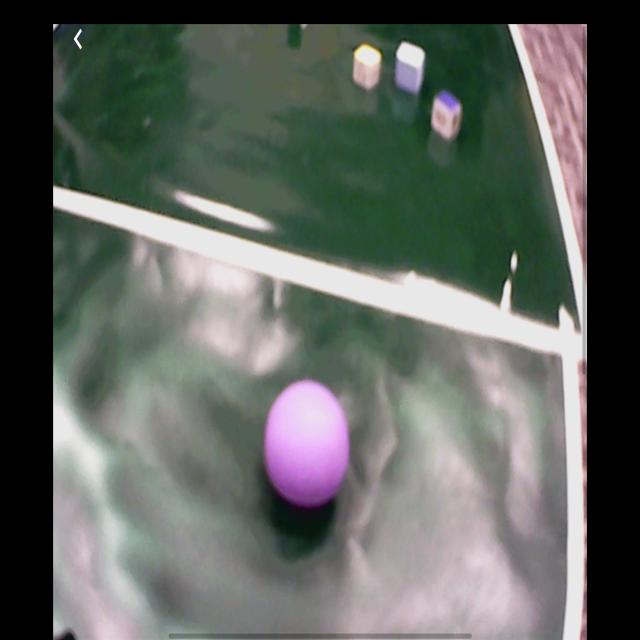ball: (266, 380, 350, 511)
